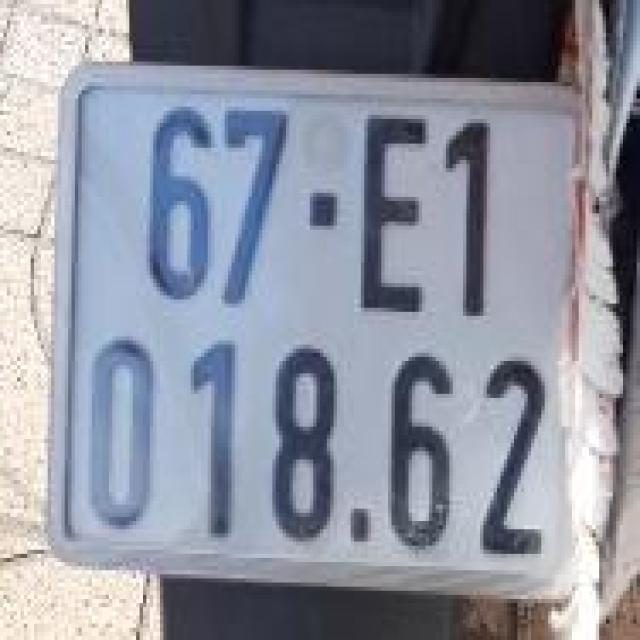0: (77, 314, 165, 543)
1: (177, 326, 249, 552), (437, 90, 499, 337)
2: (475, 351, 567, 572)
6: (382, 332, 466, 566), (131, 94, 216, 316)
7: (211, 88, 293, 318)
8: (256, 324, 340, 550)
E: (349, 94, 434, 324)
